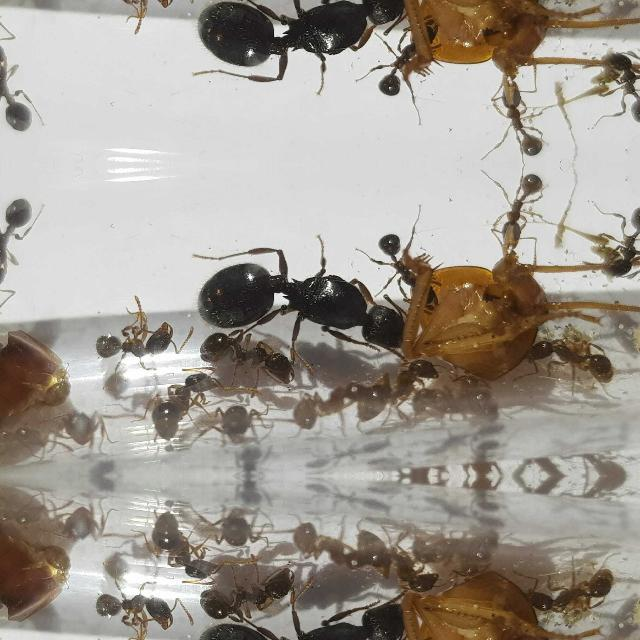Apheanogaster: (182, 246, 422, 346), (182, 0, 422, 82), (286, 358, 390, 446), (286, 504, 390, 592), (182, 604, 422, 640), (470, 164, 576, 242), (470, 86, 576, 164), (190, 322, 308, 386), (190, 564, 308, 628), (350, 335, 432, 425), (350, 525, 432, 615), (135, 366, 227, 440), (135, 510, 227, 584), (519, 330, 617, 396), (519, 554, 617, 620), (403, 374, 499, 434), (403, 516, 499, 576), (373, 226, 439, 312), (373, 17, 439, 102), (0, 190, 46, 306), (0, 20, 46, 136), (88, 306, 178, 364), (86, 586, 178, 640), (586, 198, 640, 284), (586, 44, 640, 130), (199, 388, 275, 446), (199, 504, 275, 562), (54, 404, 120, 458), (54, 492, 120, 546), (0, 415, 46, 459), (86, 0, 178, 22), (0, 491, 46, 535), (40, 357, 80, 407), (40, 543, 80, 593)
